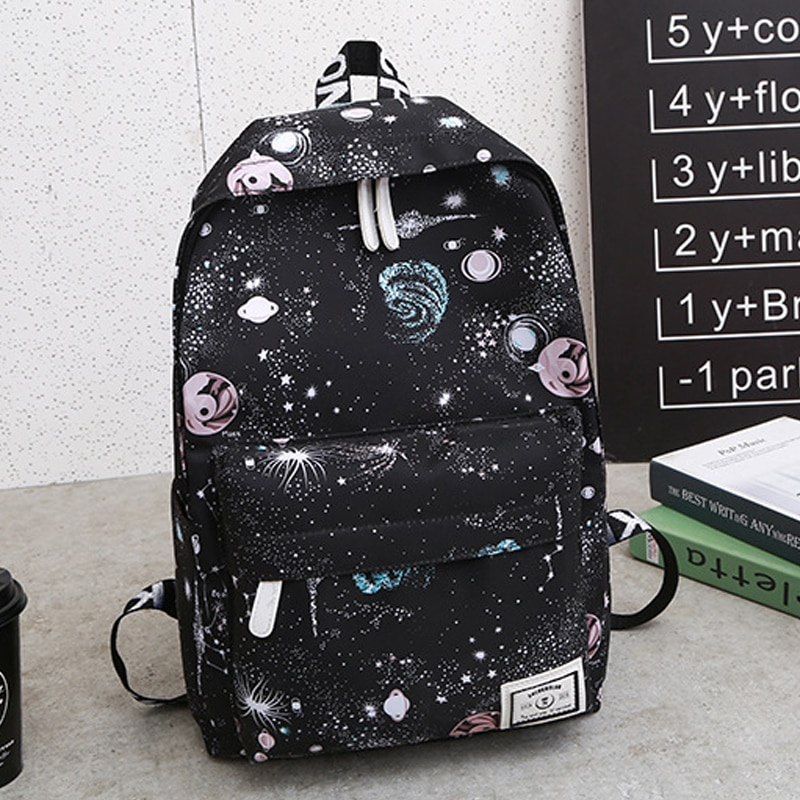Men's Backpacks: (110, 33, 685, 772)
